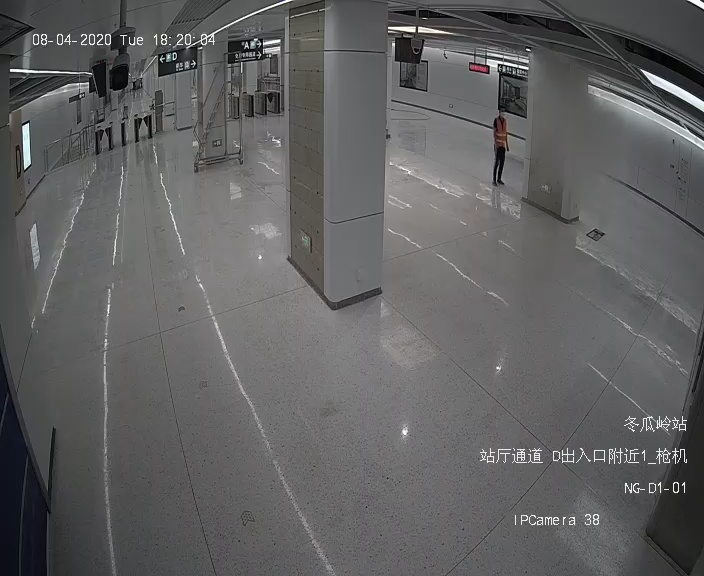smoke: (533, 66, 625, 154), (568, 166, 621, 226)
